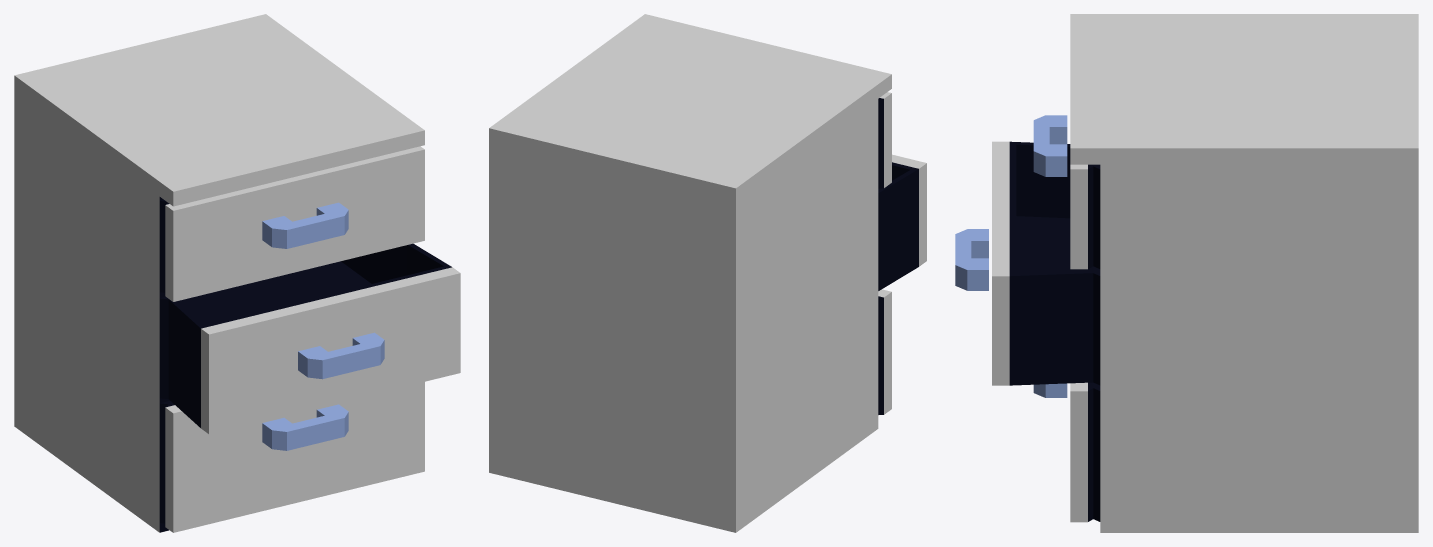
The model's file is drawers2.FBX.
3 renders of one model, left to right at view 1: azimuth 30°, elevation 25°; view 2: azimuth 150°, elevation 25°; view 3: azimuth 270°, elevation 25°, orthographic. The views are drawn at different scales.
Parts seen in each view (by area): view 1: cabinet003; view 2: cabinet003; view 3: cabinet003.
Boxes of the visible parts, x1=… form: cabinet003: x1=14, y1=14, x2=460, y2=532; cabinet003: x1=489, y1=14, x2=926, y2=532; cabinet003: x1=955, y1=14, x2=1418, y2=532.
Size of the model in its own units: 90 by 120 by 131.
